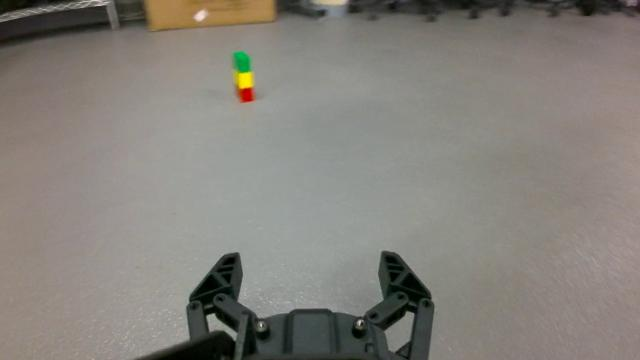lego: (230, 49, 255, 104)
